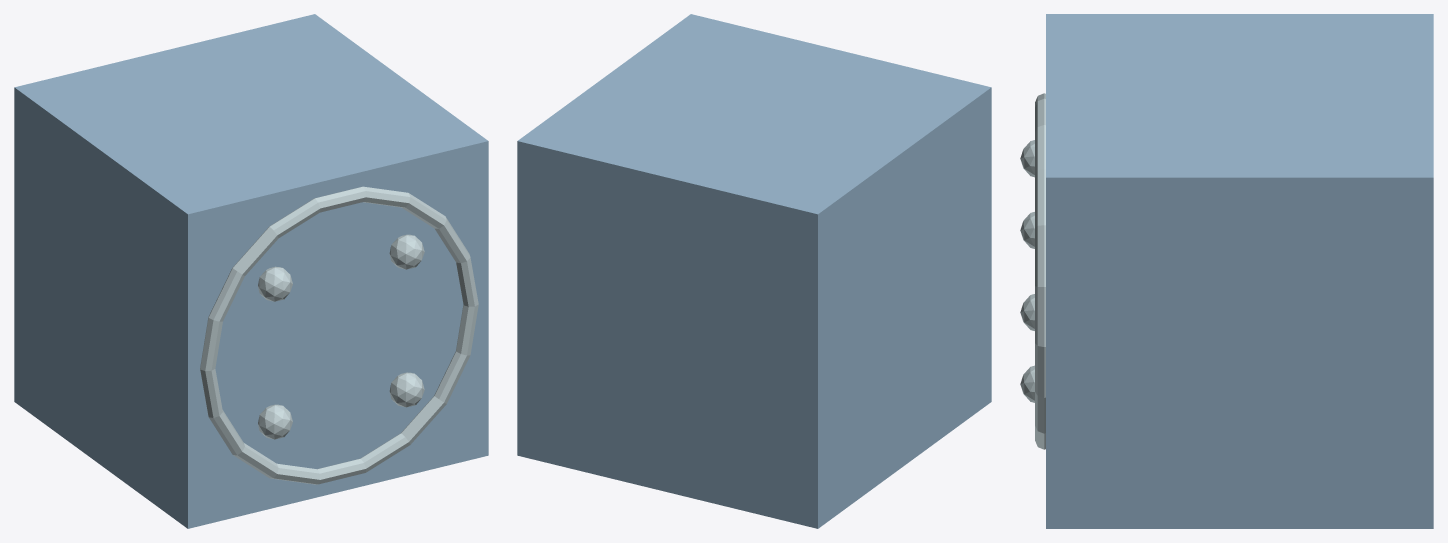
File: eis.glb
The picture shows the model from 3 angles, left to right: view 1: azimuth 30°, elevation 25°; view 2: azimuth 150°, elevation 25°; view 3: azimuth 270°, elevation 25°; orthographic projection. The views are drawn at different scales.
Visible parts, largest first — view 1: world; view 2: world; view 3: world.
Part boxes in pixels (x1,y1,x2,y2): world: [14, 14, 488, 528]; world: [517, 14, 991, 528]; world: [1020, 14, 1433, 528].
Size of the model in its own units: 1.05 by 1.05 by 1.12.
